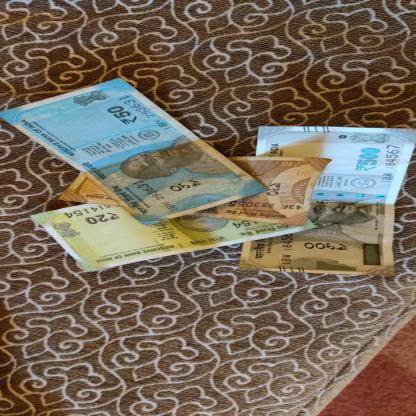New10Front: (56, 156, 334, 226)
New20Front: (31, 203, 318, 271)
New500Front: (237, 126, 415, 278)
New50Front: (0, 77, 272, 227)
